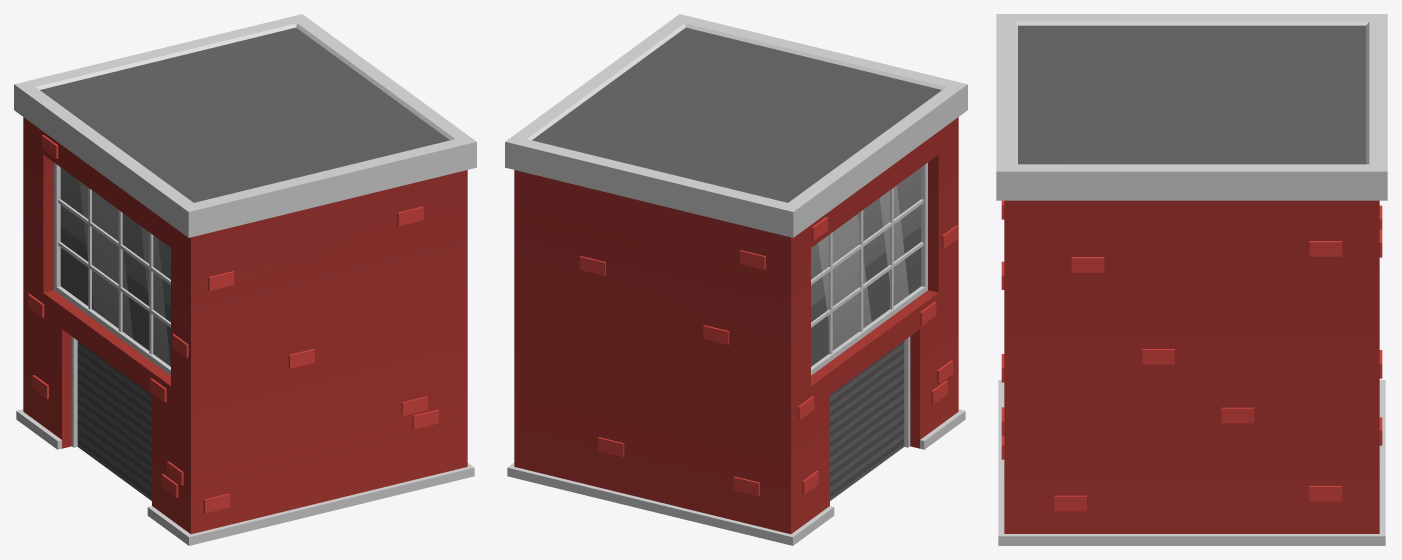
The model's file is Building_10_B.fbx.
The picture shows the model from 3 angles, left to right: view 1: azimuth 30°, elevation 25°; view 2: azimuth 150°, elevation 25°; view 3: azimuth 270°, elevation 25°; orthographic projection. The views are drawn at different scales.
Parts seen in each view (by area): view 1: Building_10_B; view 2: Building_10_B; view 3: Building_10_B.
Part boxes in pixels (bbox=[...]): Building_10_B: bbox=[14, 14, 476, 545]; Building_10_B: bbox=[505, 14, 967, 545]; Building_10_B: bbox=[996, 14, 1387, 545].
Bounding box in the file's own units: 701 × 779 × 736.
